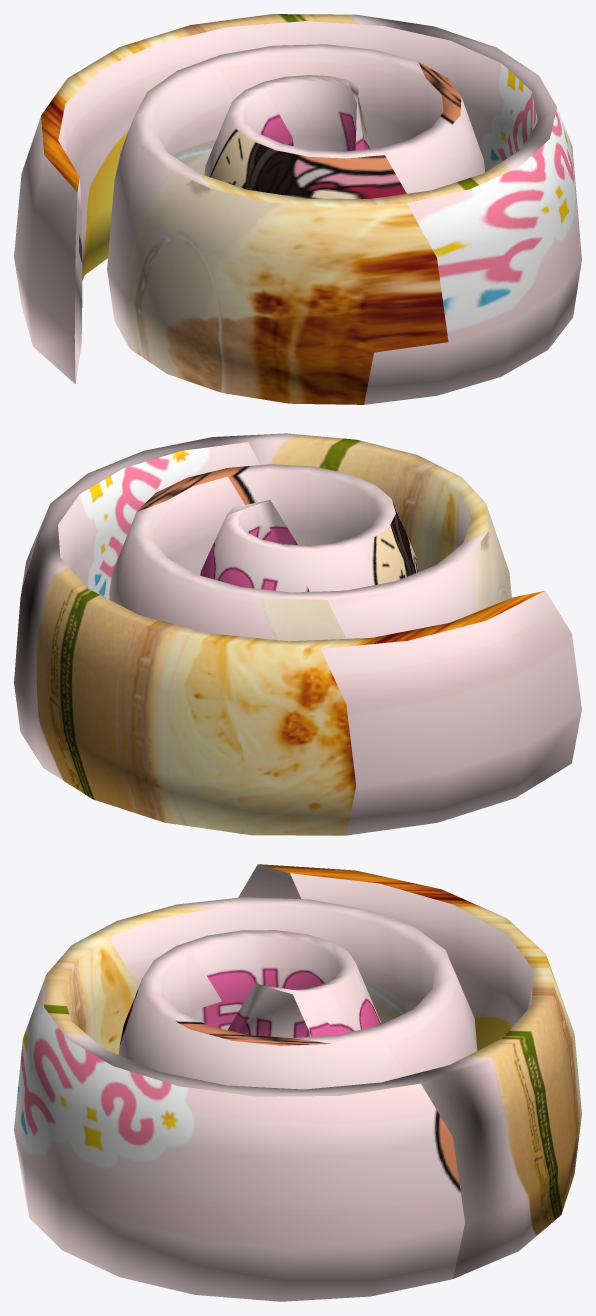
File: prop_biscoff_roll.glb
3 views of the same model, one above another, from view 1: azimuth 30°, elevation 25°; view 2: azimuth 150°, elevation 25°; view 3: azimuth 270°, elevation 25° (orthographic). The views are drawn at different scales.
Parts seen in each view (by area): view 1: prop_biscoff_roll; view 2: prop_biscoff_roll; view 3: prop_biscoff_roll.
Part boxes in pixels (box(x1,y1,x2,y2)): prop_biscoff_roll: box(14, 14, 581, 404); prop_biscoff_roll: box(14, 433, 581, 835); prop_biscoff_roll: box(14, 864, 581, 1301).
Bounding box in the file's own units: 0.0571 × 0.0228 × 0.0527.
1 material, 1 textured.
